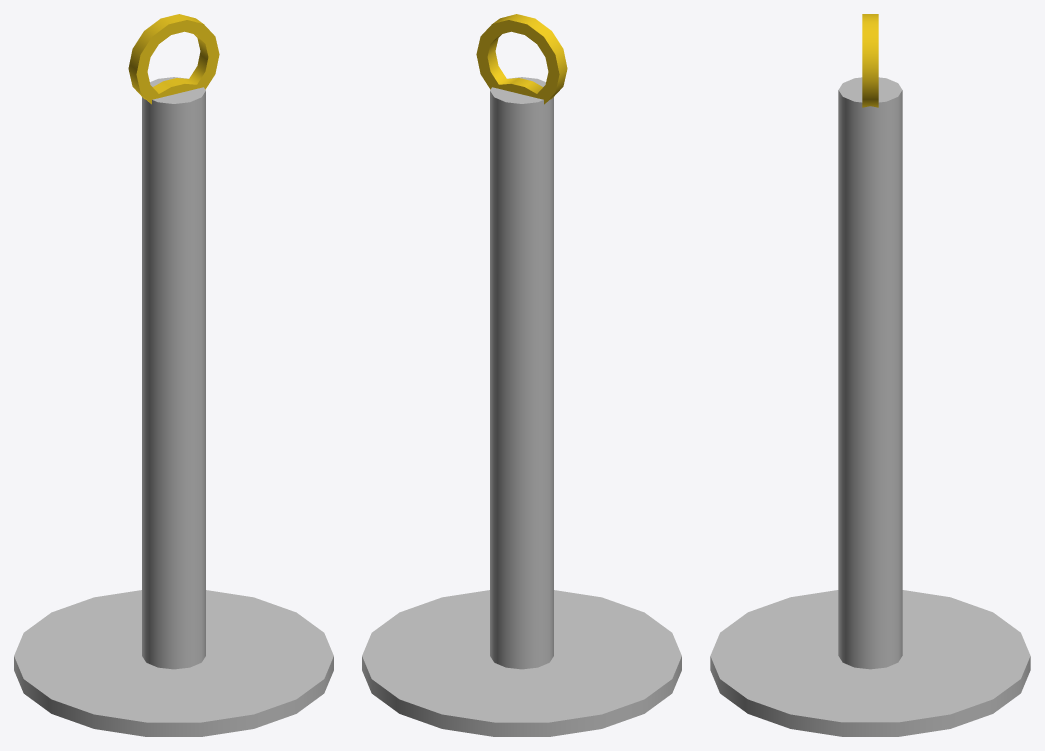
File: roof.kit.roof_anchor.glb
3 renders of one model, left to right at view 1: azimuth 30°, elevation 25°; view 2: azimuth 150°, elevation 25°; view 3: azimuth 270°, elevation 25°, orthographic.
Parts seen in each view (by area): view 1: main__steel_stainless, main__plastic_yellow; view 2: main__steel_stainless, main__plastic_yellow; view 3: main__steel_stainless, main__plastic_yellow.
Boxes of the visible parts, bbox=[...] form: main__steel_stainless: bbox=[14, 77, 333, 736]; main__plastic_yellow: bbox=[128, 14, 219, 104]; main__steel_stainless: bbox=[362, 77, 681, 736]; main__plastic_yellow: bbox=[476, 14, 567, 104]; main__steel_stainless: bbox=[710, 77, 1030, 736]; main__plastic_yellow: bbox=[862, 14, 878, 107].
Bounding box in the file's own units: 0.197 × 0.4492 × 0.2.
